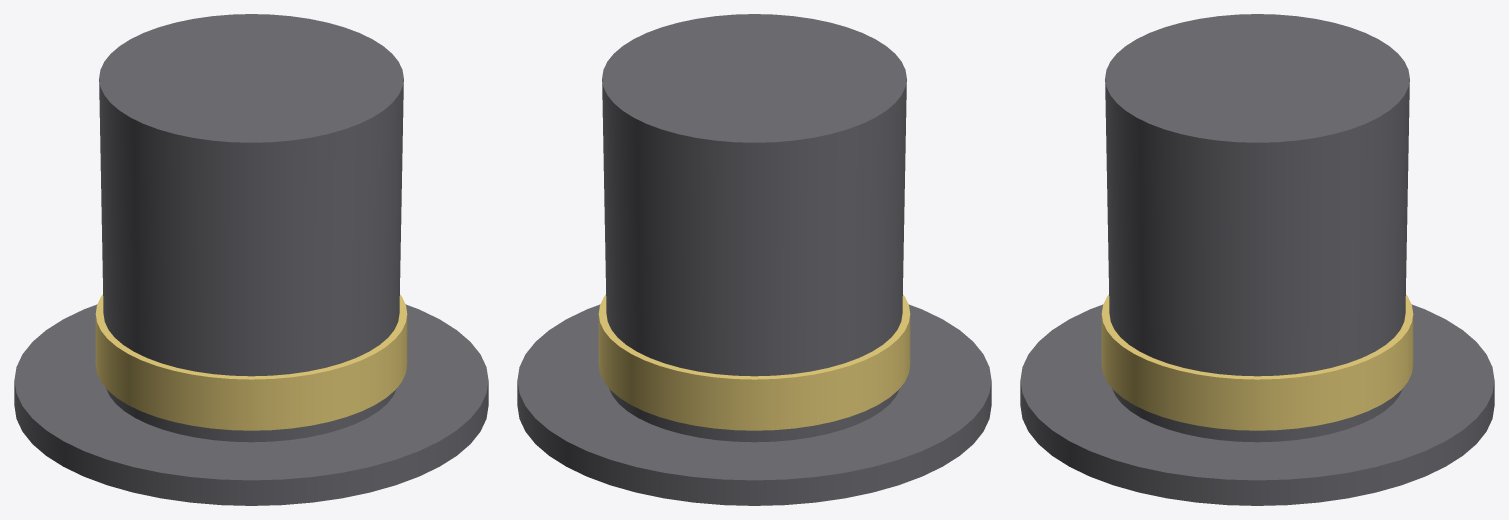
The model's file is tophat.glb.
3 views of the same model, side by side, from view 1: azimuth 30°, elevation 25°; view 2: azimuth 150°, elevation 25°; view 3: azimuth 270°, elevation 25° (orthographic).
Parts seen in each view (by area): view 1: tophat; view 2: tophat; view 3: tophat.
Part boxes in pixels (bbox=[...]): tophat: bbox=[14, 14, 488, 505]; tophat: bbox=[517, 14, 991, 505]; tophat: bbox=[1020, 14, 1494, 505].
Bounding box in the file's own units: 0.42 × 0.32 × 0.42.
